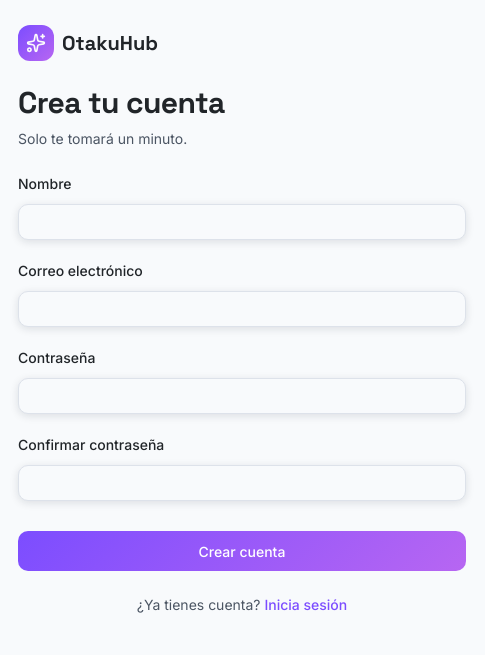
Test: Register Form › should show error when passwords do not match
Type "Usuario Test" into the field with id "name" at point(242, 222), box [18,204,466,240]
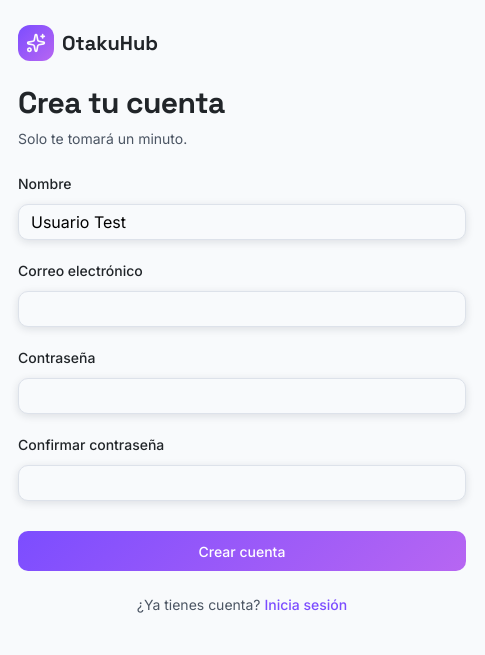
Type "usuario@test.com" into the field with id "email" at point(242, 309), box [18,291,466,327]
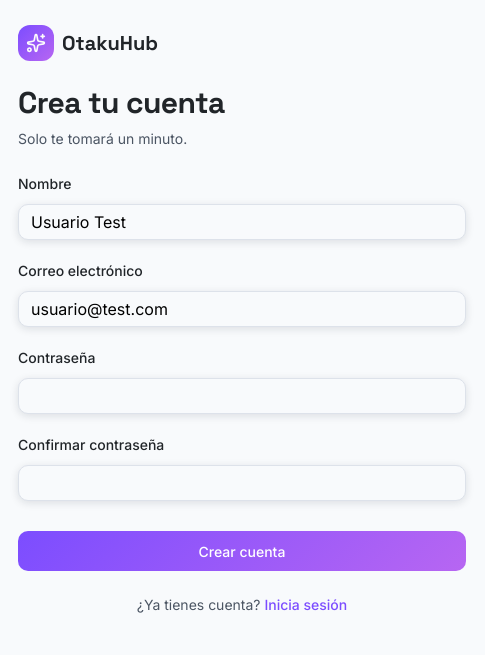
Type "123456" into the password field labelled "Contraseña" at point(242, 396), box [18,378,466,414]
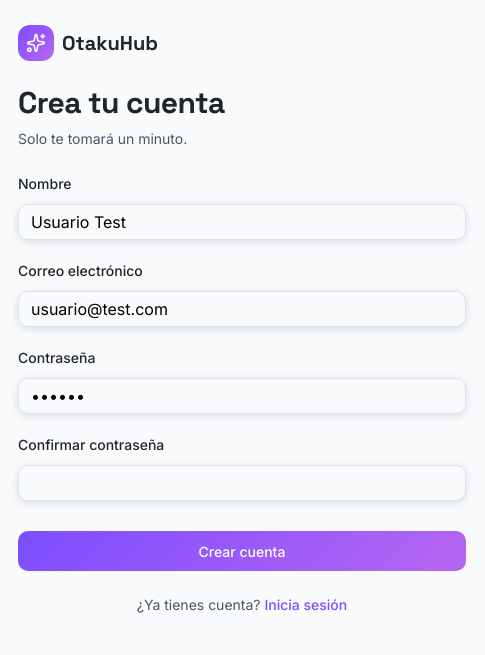
Type "654321" into the password field with id "confirm-password" at point(242, 483), box [18,465,466,501]
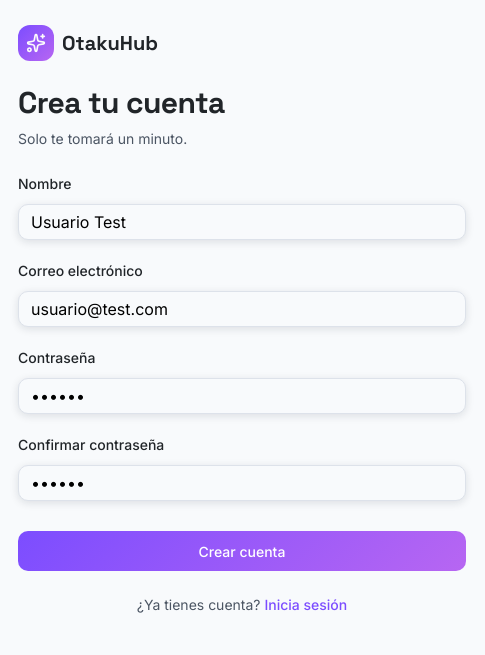
Submit the form
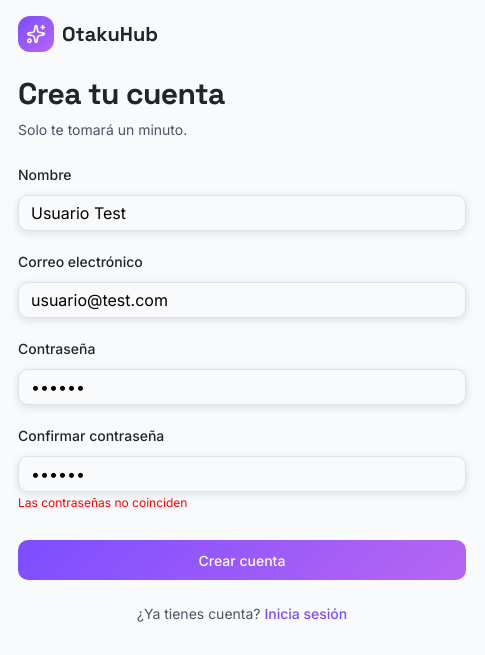
Expected: the text "Las contraseñas no coinciden" is shown, [18,495,187,510]
